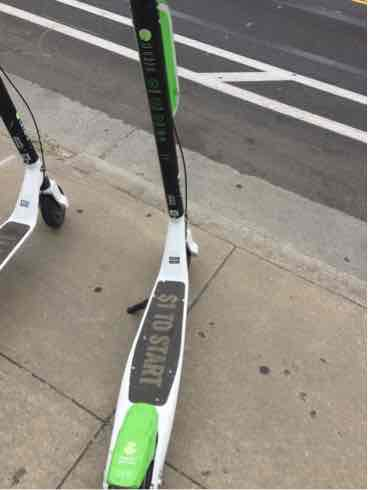scooter: (42, 7, 242, 490)
